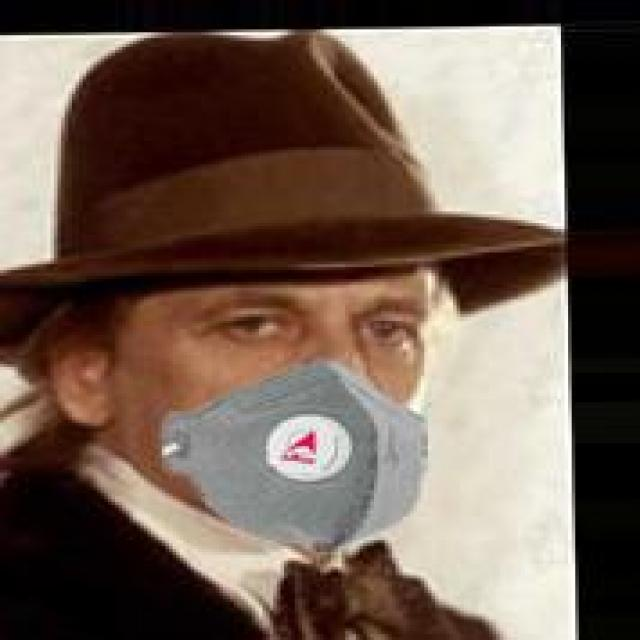mask: (43, 80, 500, 576)
